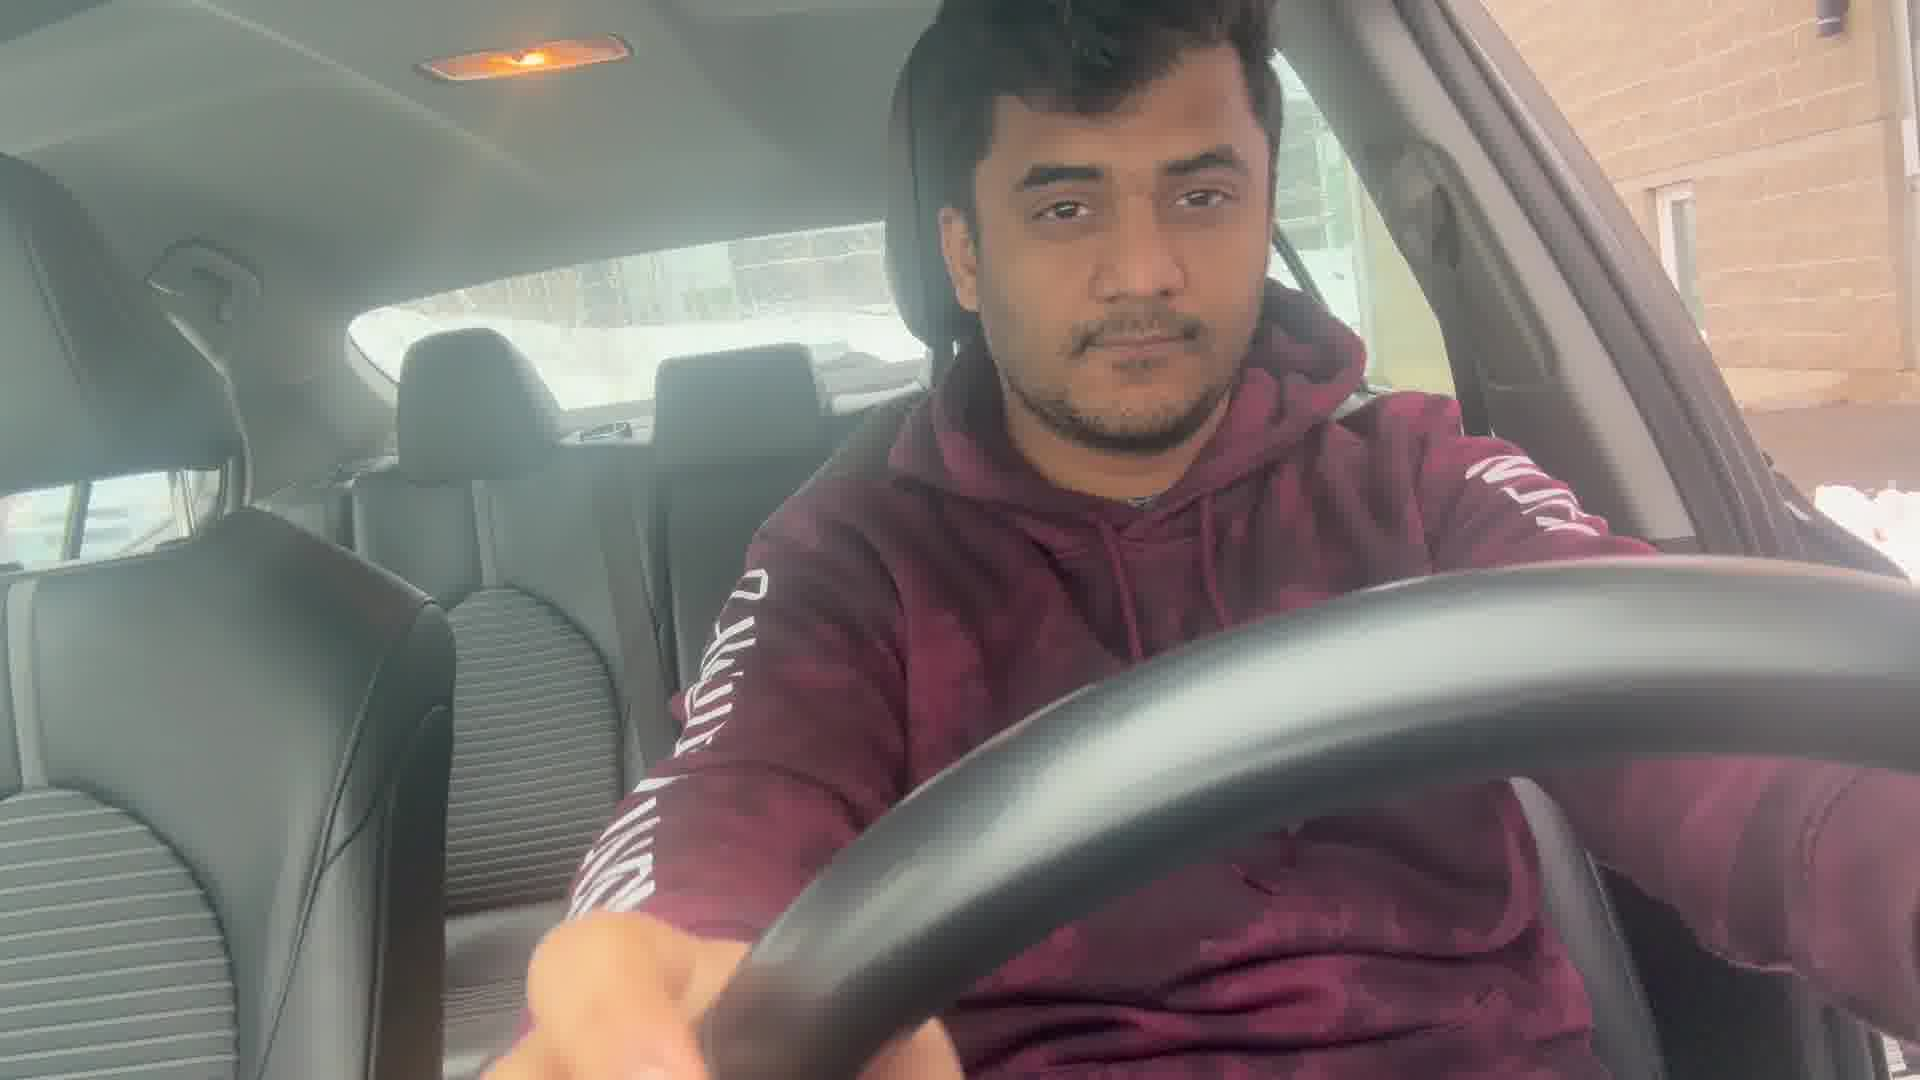no_seatbelt: (1073, 132, 1499, 907)
